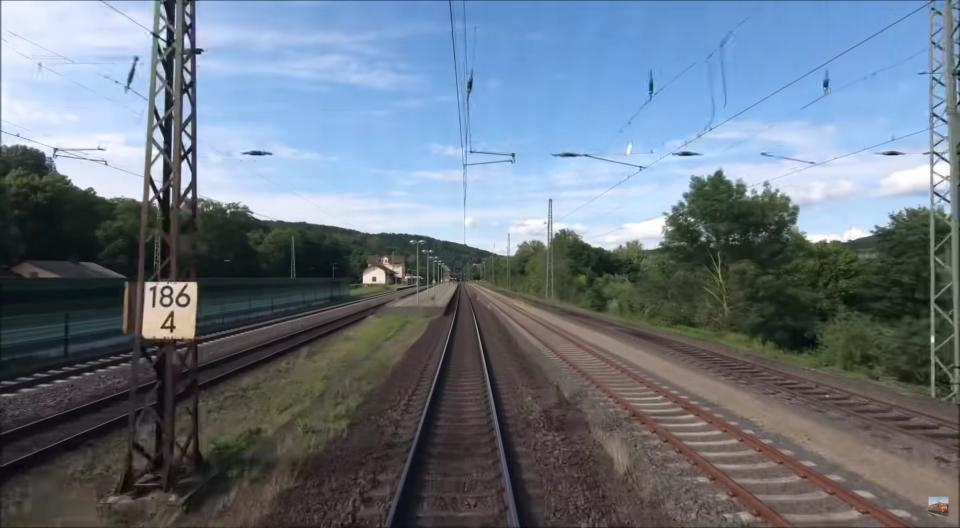Plant: (151, 308, 436, 525), (590, 430, 634, 478)
